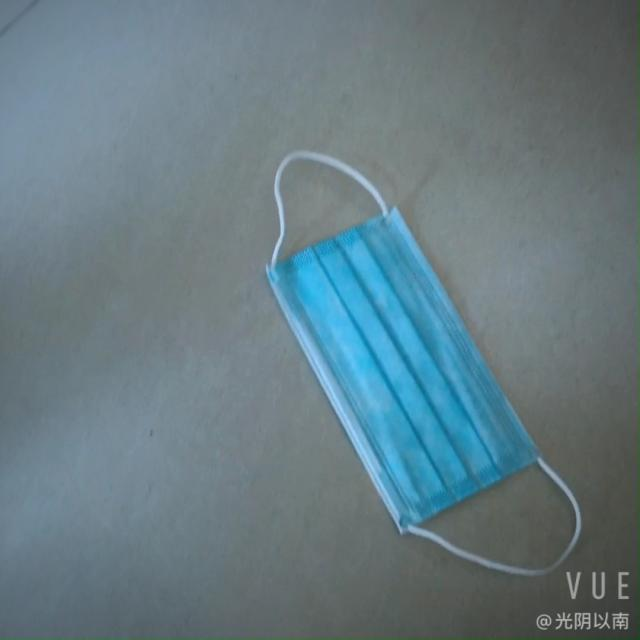face mask: (267, 201, 534, 548)
